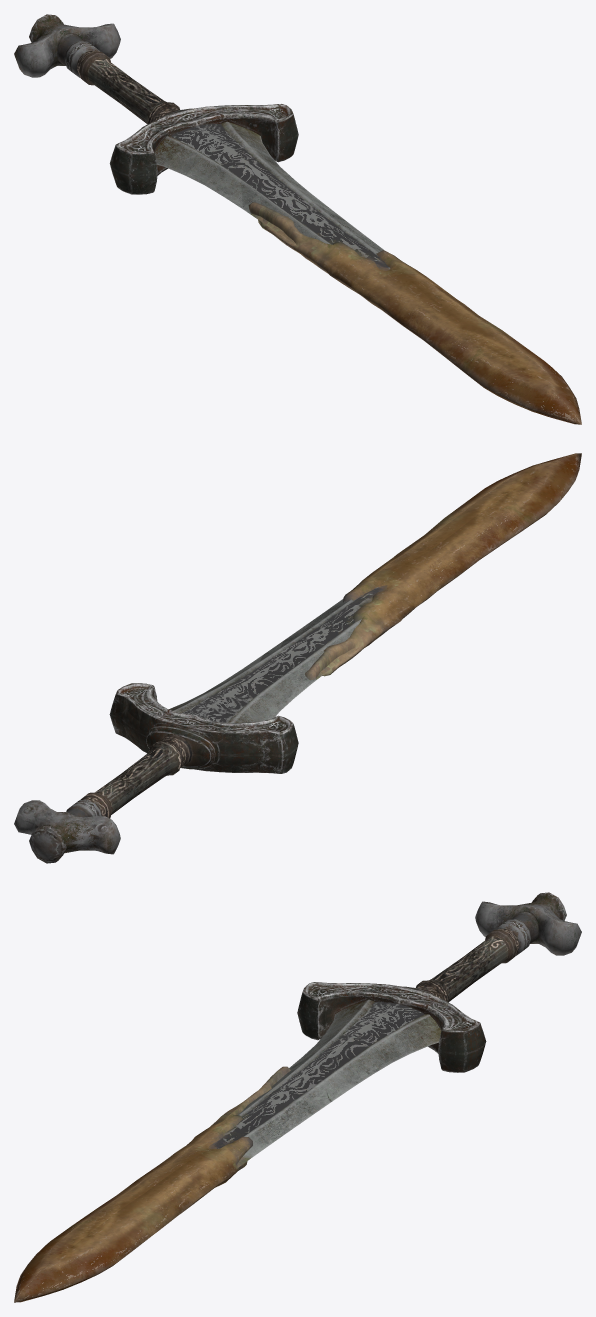
3 views of the same model, one above another, from view 1: azimuth 30°, elevation 25°; view 2: azimuth 150°, elevation 25°; view 3: azimuth 330°, elevation 25° (orthographic).
Visible parts, largest first — view 1: WP_A_0629; view 2: WP_A_0629; view 3: WP_A_0629.
Part boxes in pixels (left/top/right/bottom): WP_A_0629: left=14, top=14, right=581, bottom=424; WP_A_0629: left=14, top=453, right=581, bottom=863; WP_A_0629: left=14, top=892, right=581, bottom=1302.
Size of the model in its own units: 29.79 by 6.68 by 156.
Materials: 1 (1 with a texture image).
